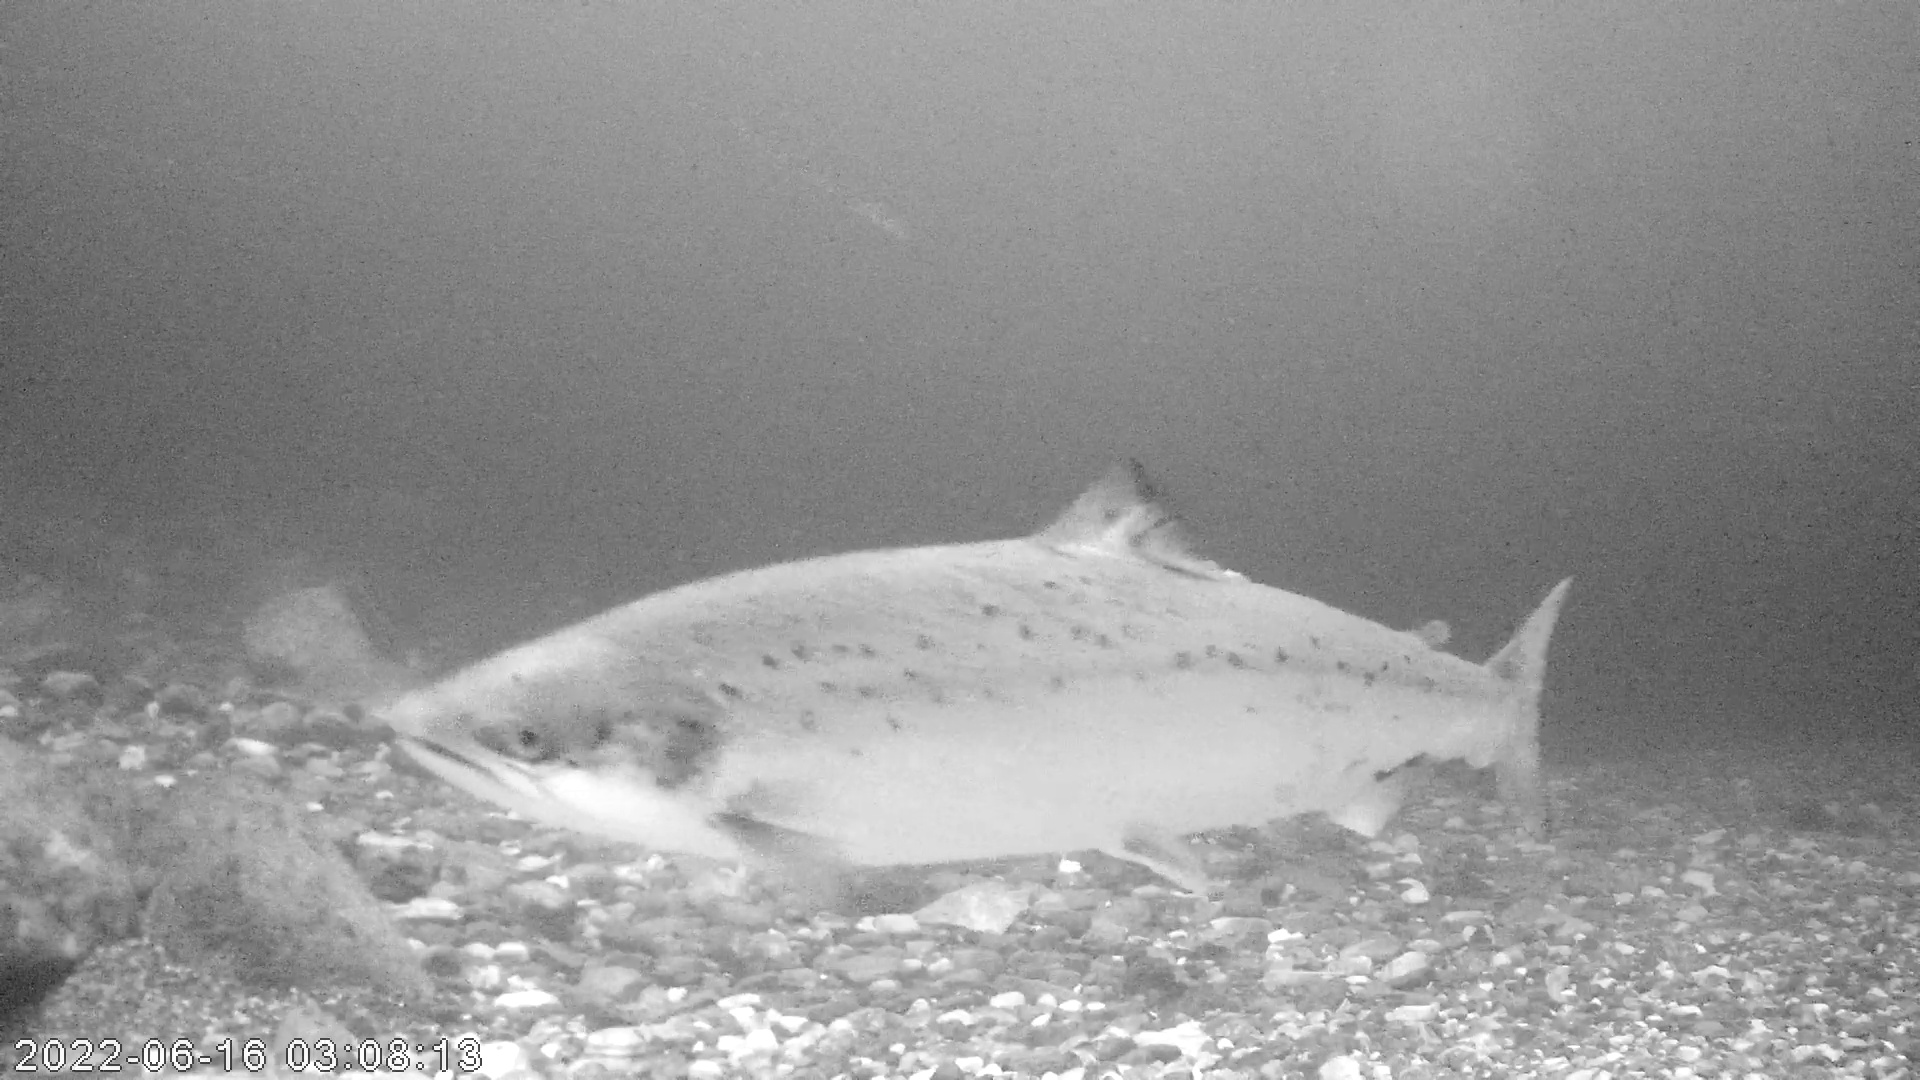salmon: (382, 450, 1578, 897)
